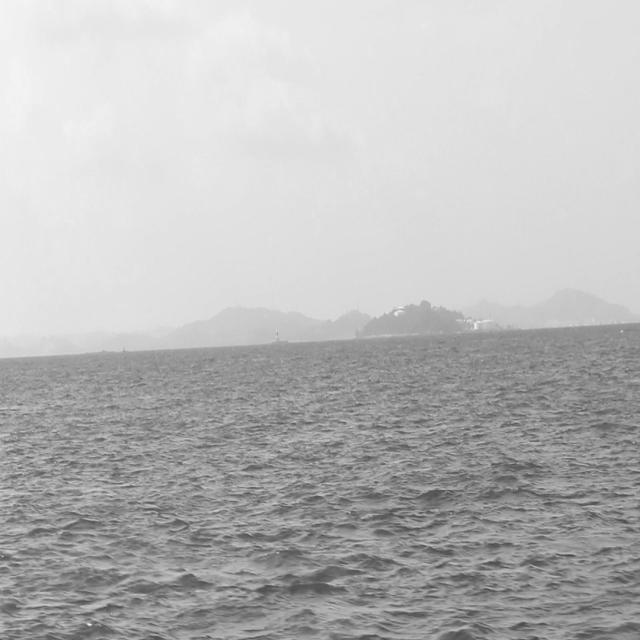boat: (267, 326, 287, 350)
